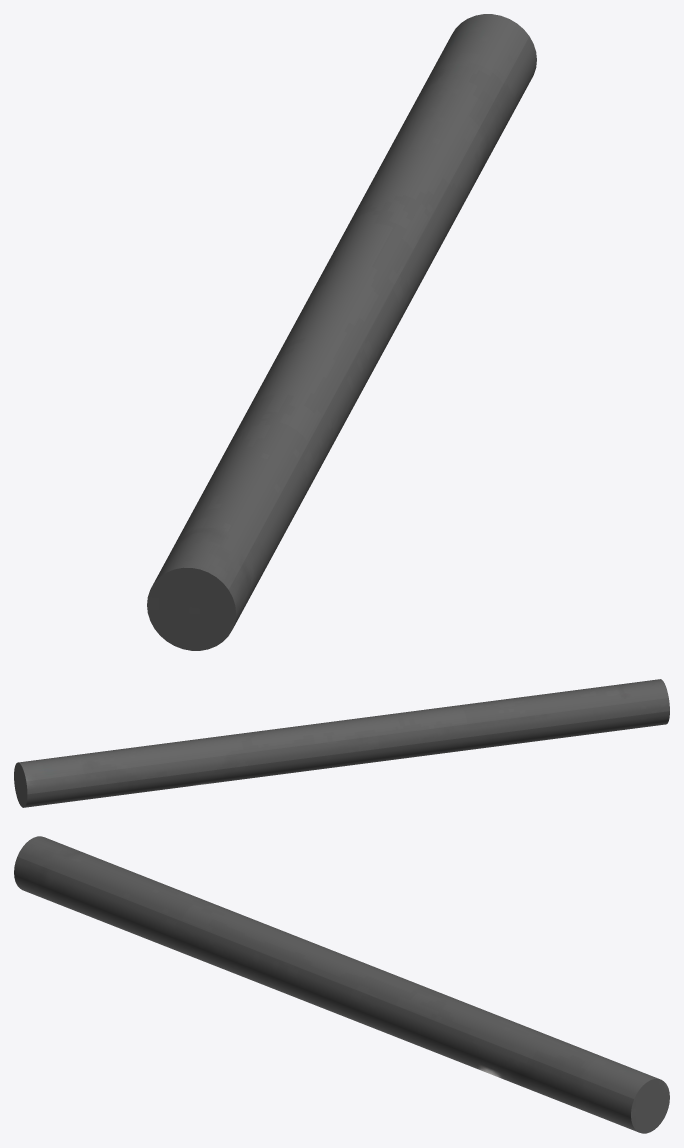
The model's file is rear_link__side_strap_1.glb.
3 views of the same model, one above another, from view 1: azimuth 30°, elevation 25°; view 2: azimuth 150°, elevation 25°; view 3: azimuth 270°, elevation 25° (orthographic). The views are drawn at different scales.
Visible parts, largest first — view 1: world; view 2: world; view 3: world.
Part boxes in pixels (x1,y1,x2,y2): world: (147, 14, 536, 650); world: (14, 679, 669, 807); world: (14, 836, 669, 1133).
Bounding box in the file's own units: 0.2146 × 0.02 × 0.2286.
Materials: 1 (1 with a texture image).
